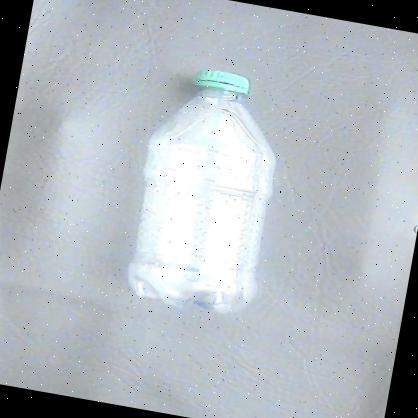bottle: (118, 57, 294, 324)
cap: (189, 66, 260, 102)
